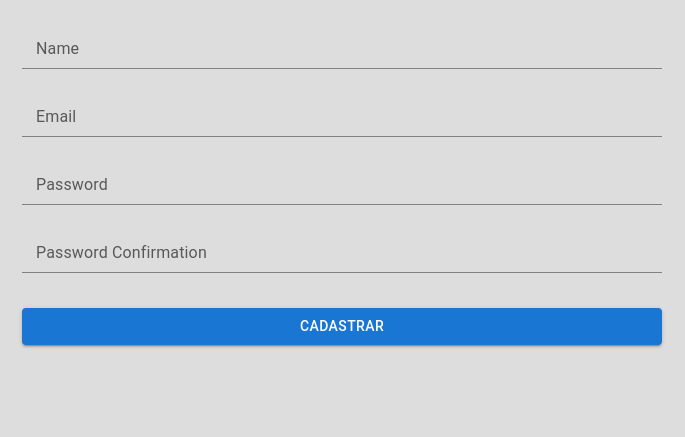
Test case: Suit de Testes SignUp Page › Should login the user  WHEN required fields are filled and sucessfull
In the field named "email" next to "Email": (342, 121) [22,105,662,137], type "lexpdigi@gmail.com"
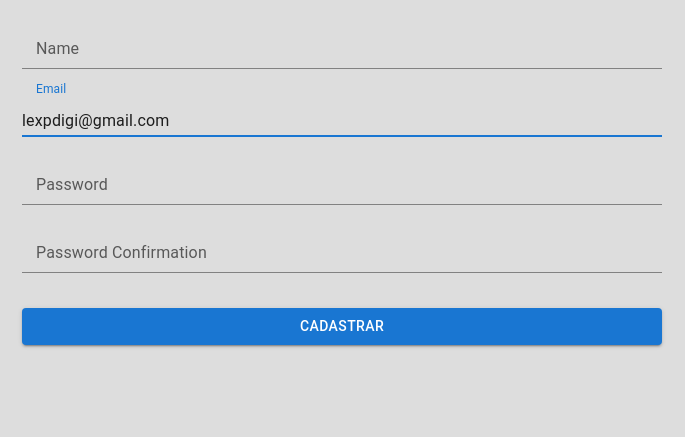
In the 1st password field named "password": (342, 189) [22,173,662,205], type "123456"
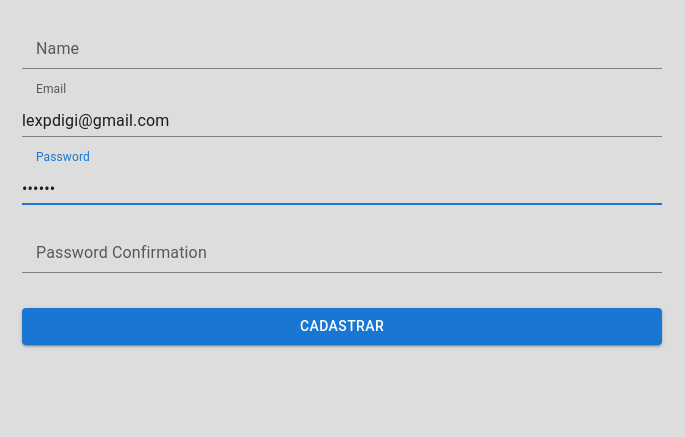
In the password field named "password_confirmation" next to "Password Confirmation": (342, 257) [22,241,662,273], type "123456"
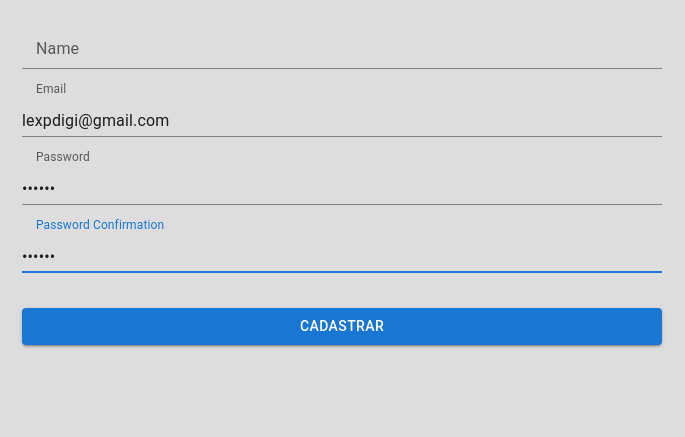
In the field named "name" next to "Name": (342, 53) [22,37,662,69], type "test"
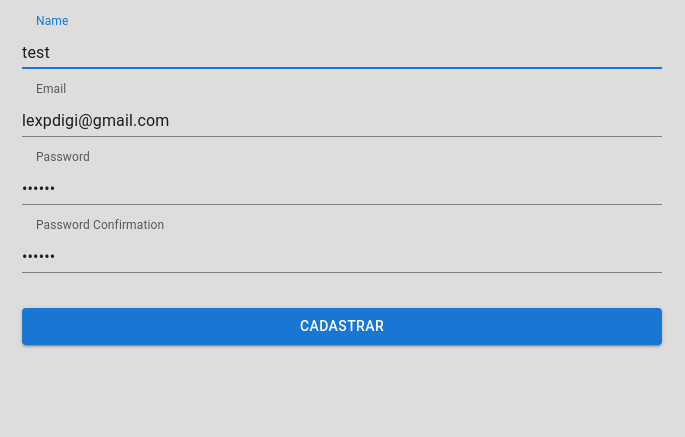
Click the button "Cadastrar": (342, 326) [22,308,662,344]
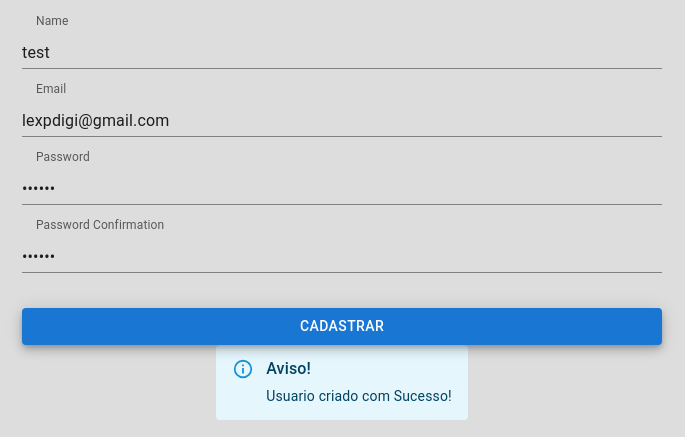
Check: the element showing "Aviso! Usuario criado com Sucesso!" is shown, box [266,350,452,414]
